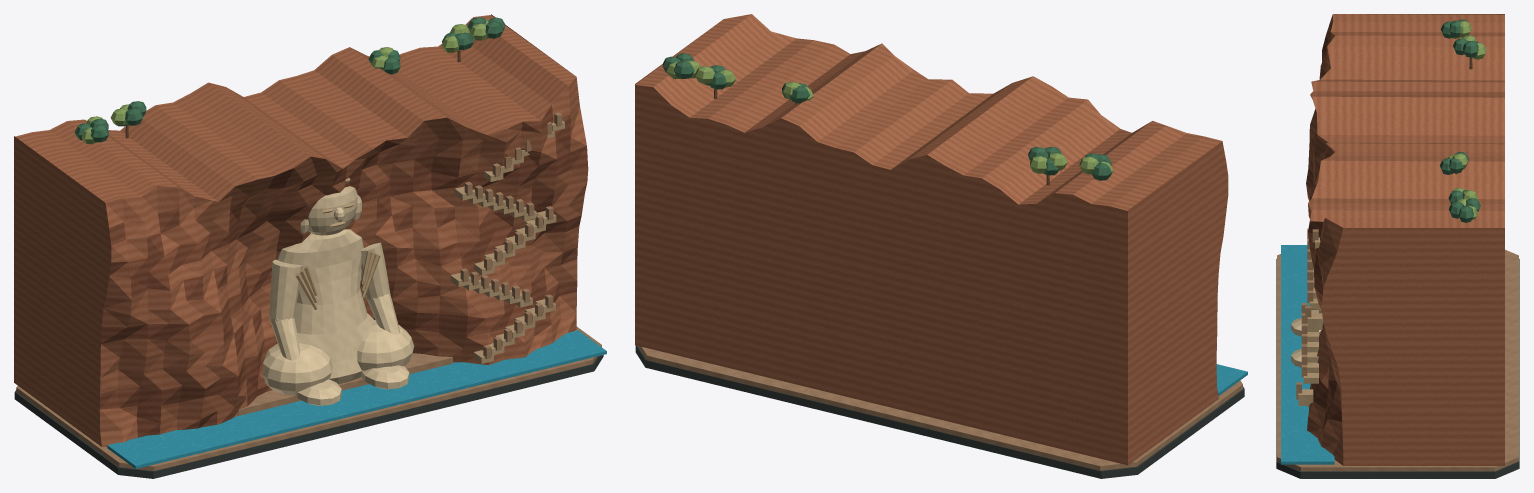
File: leshan-buddha.glb
3 renders of one model, left to right at view 1: azimuth 30°, elevation 25°; view 2: azimuth 150°, elevation 25°; view 3: azimuth 270°, elevation 25°, orthographic. The views are drawn at different scales.
Visible parts, largest first — view 1: 乐山大佛; view 2: 乐山大佛; view 3: 乐山大佛.
Boxes of the visible parts, x1,y1,x2,y2 form: 乐山大佛: (14,14,606,478); 乐山大佛: (635,14,1247,478); 乐山大佛: (1276,14,1519,478).
Bounding box in the file's own units: 10.85 × 5.99 × 5.
10 materials, 10 textured.
